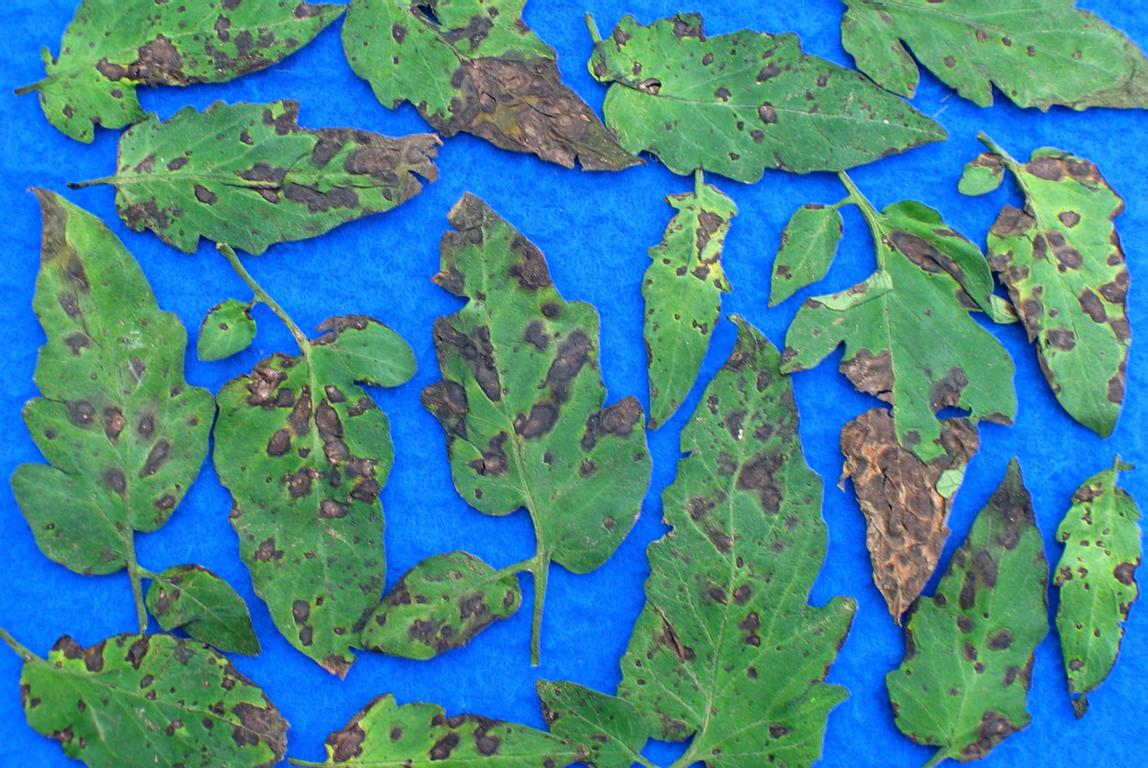Tomato Early blight leaf: (601, 283, 846, 768), (426, 197, 646, 579), (10, 180, 204, 584), (223, 323, 416, 691), (340, 0, 650, 174), (113, 101, 456, 256), (886, 460, 1053, 768), (580, 34, 931, 177), (988, 121, 1130, 444), (16, 613, 291, 768), (828, 0, 1148, 127), (33, 0, 341, 131), (1037, 456, 1148, 757), (640, 174, 746, 431), (291, 699, 591, 768), (758, 186, 864, 321), (148, 557, 254, 653)
